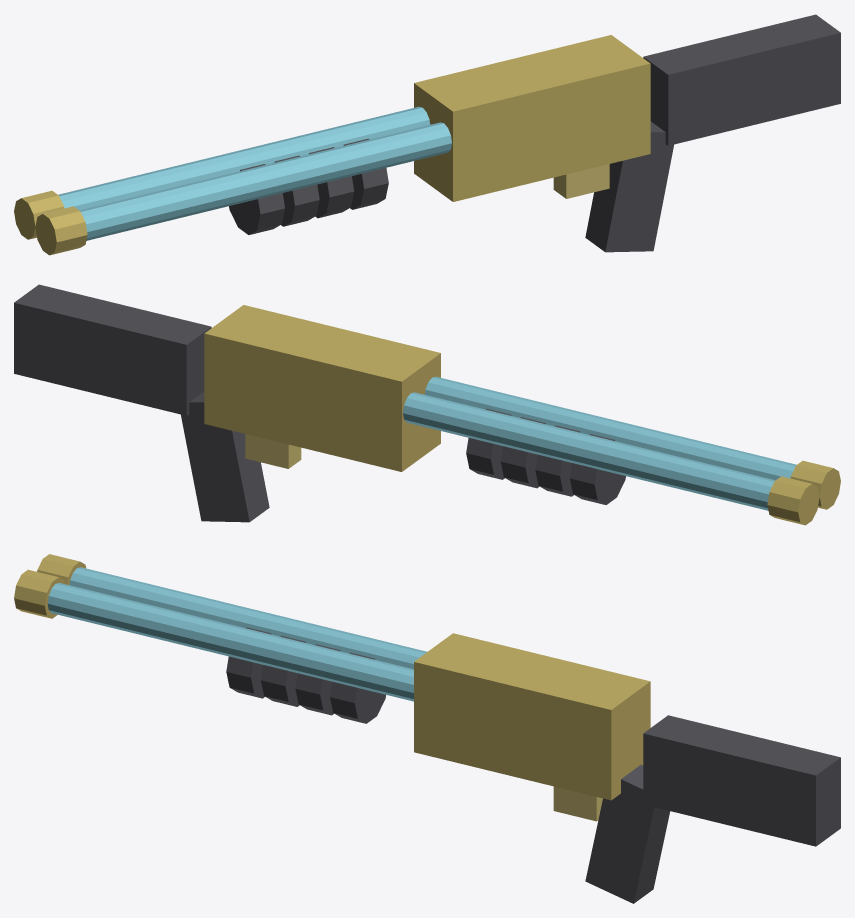
Rendered from buz_cift_pompali.glb.
3 views of the same model, one above another, from view 1: azimuth 30°, elevation 25°; view 2: azimuth 150°, elevation 25°; view 3: azimuth 330°, elevation 25° (orthographic).
Parts seen in each view (by area): view 1: geometry_0; view 2: geometry_0; view 3: geometry_0.
Part boxes in pixels (x1,y1,x2,y2): geometry_0: (14,14,840,255); geometry_0: (14,284,840,525); geometry_0: (14,554,840,903).
Bounding box in the file's own units: 0.6425 × 0.1532 × 0.06.
